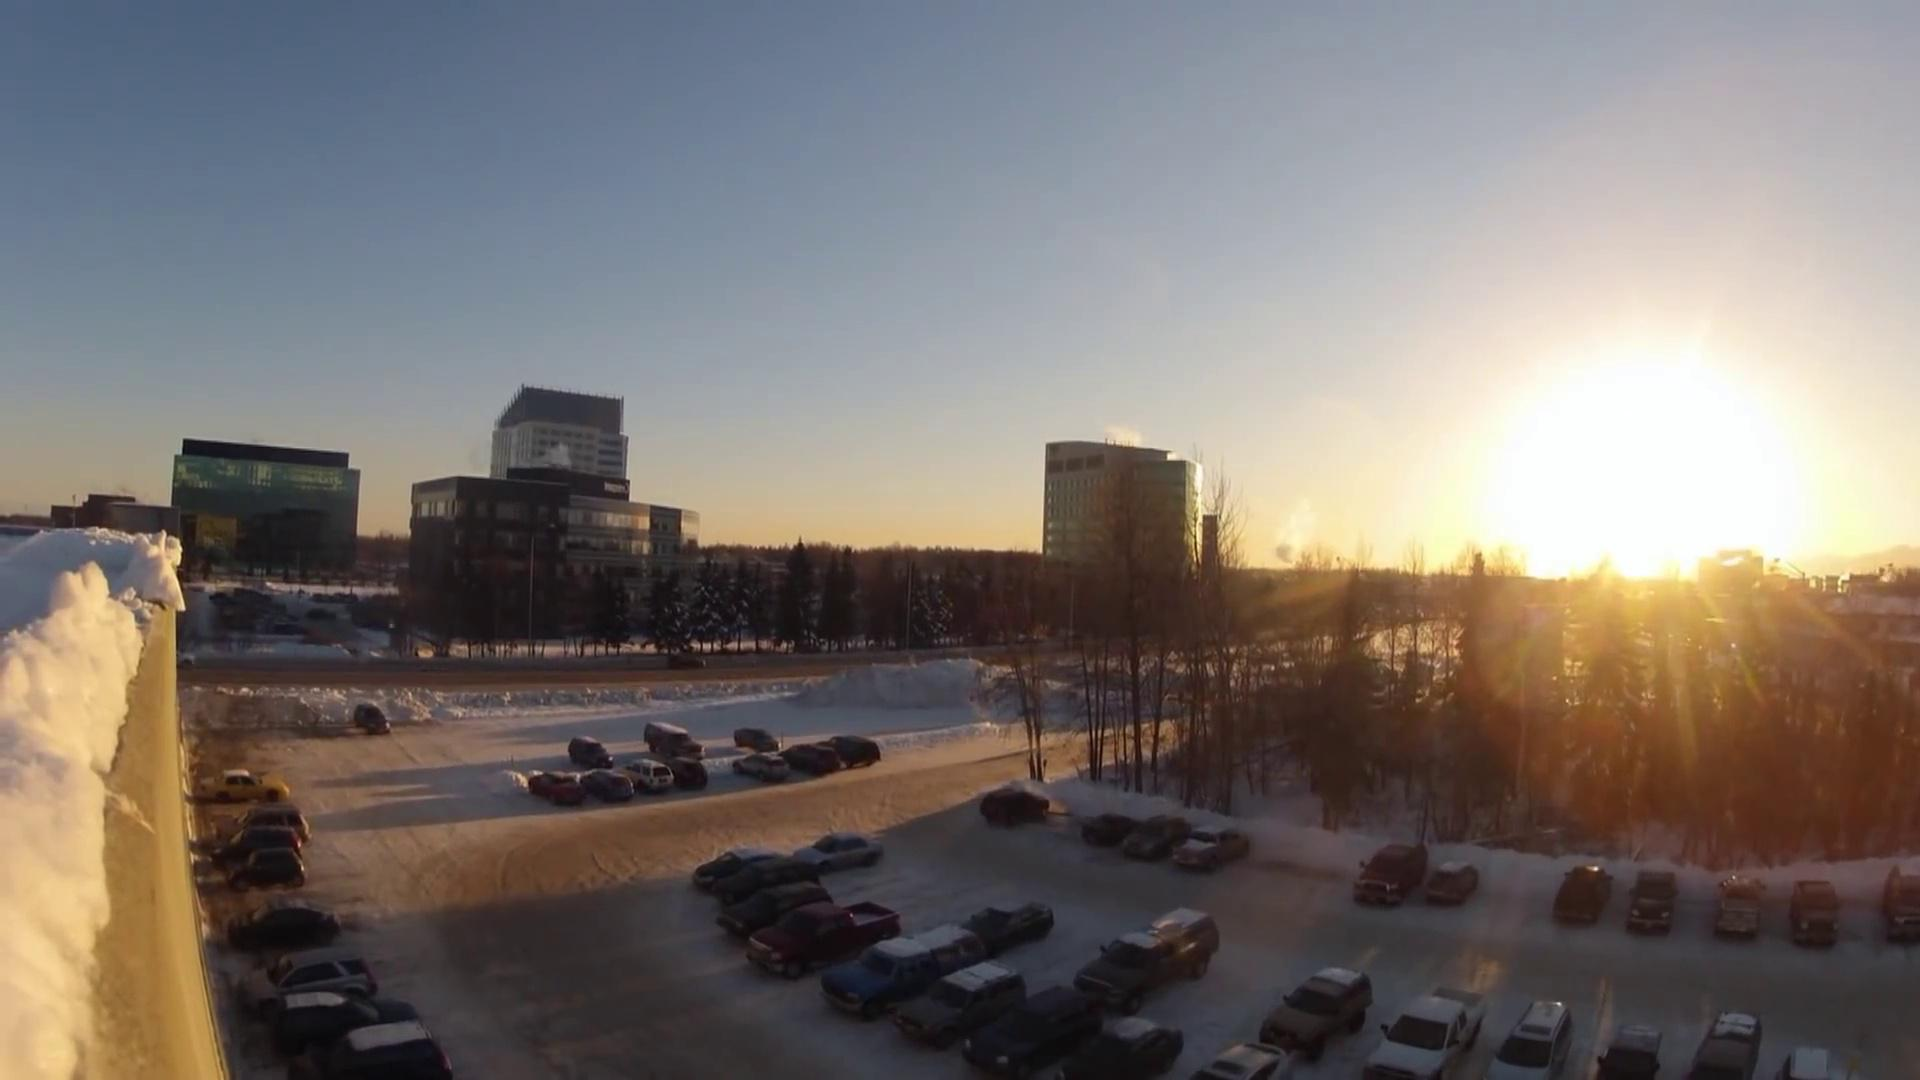Fire: (522, 443, 574, 465)
